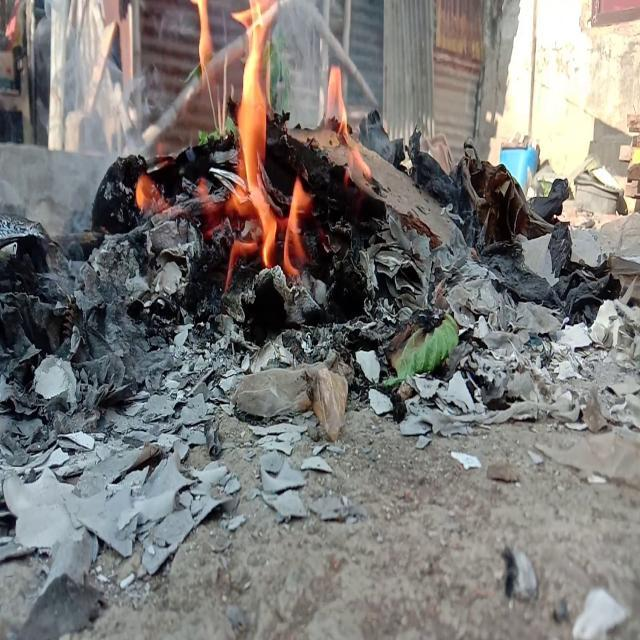Fire: (184, 0, 354, 270)
